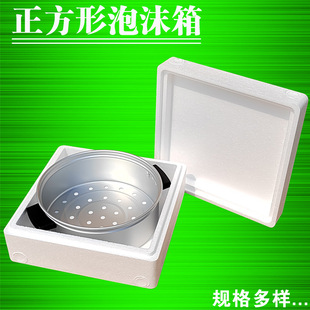Boxes: (4, 58, 303, 288)
